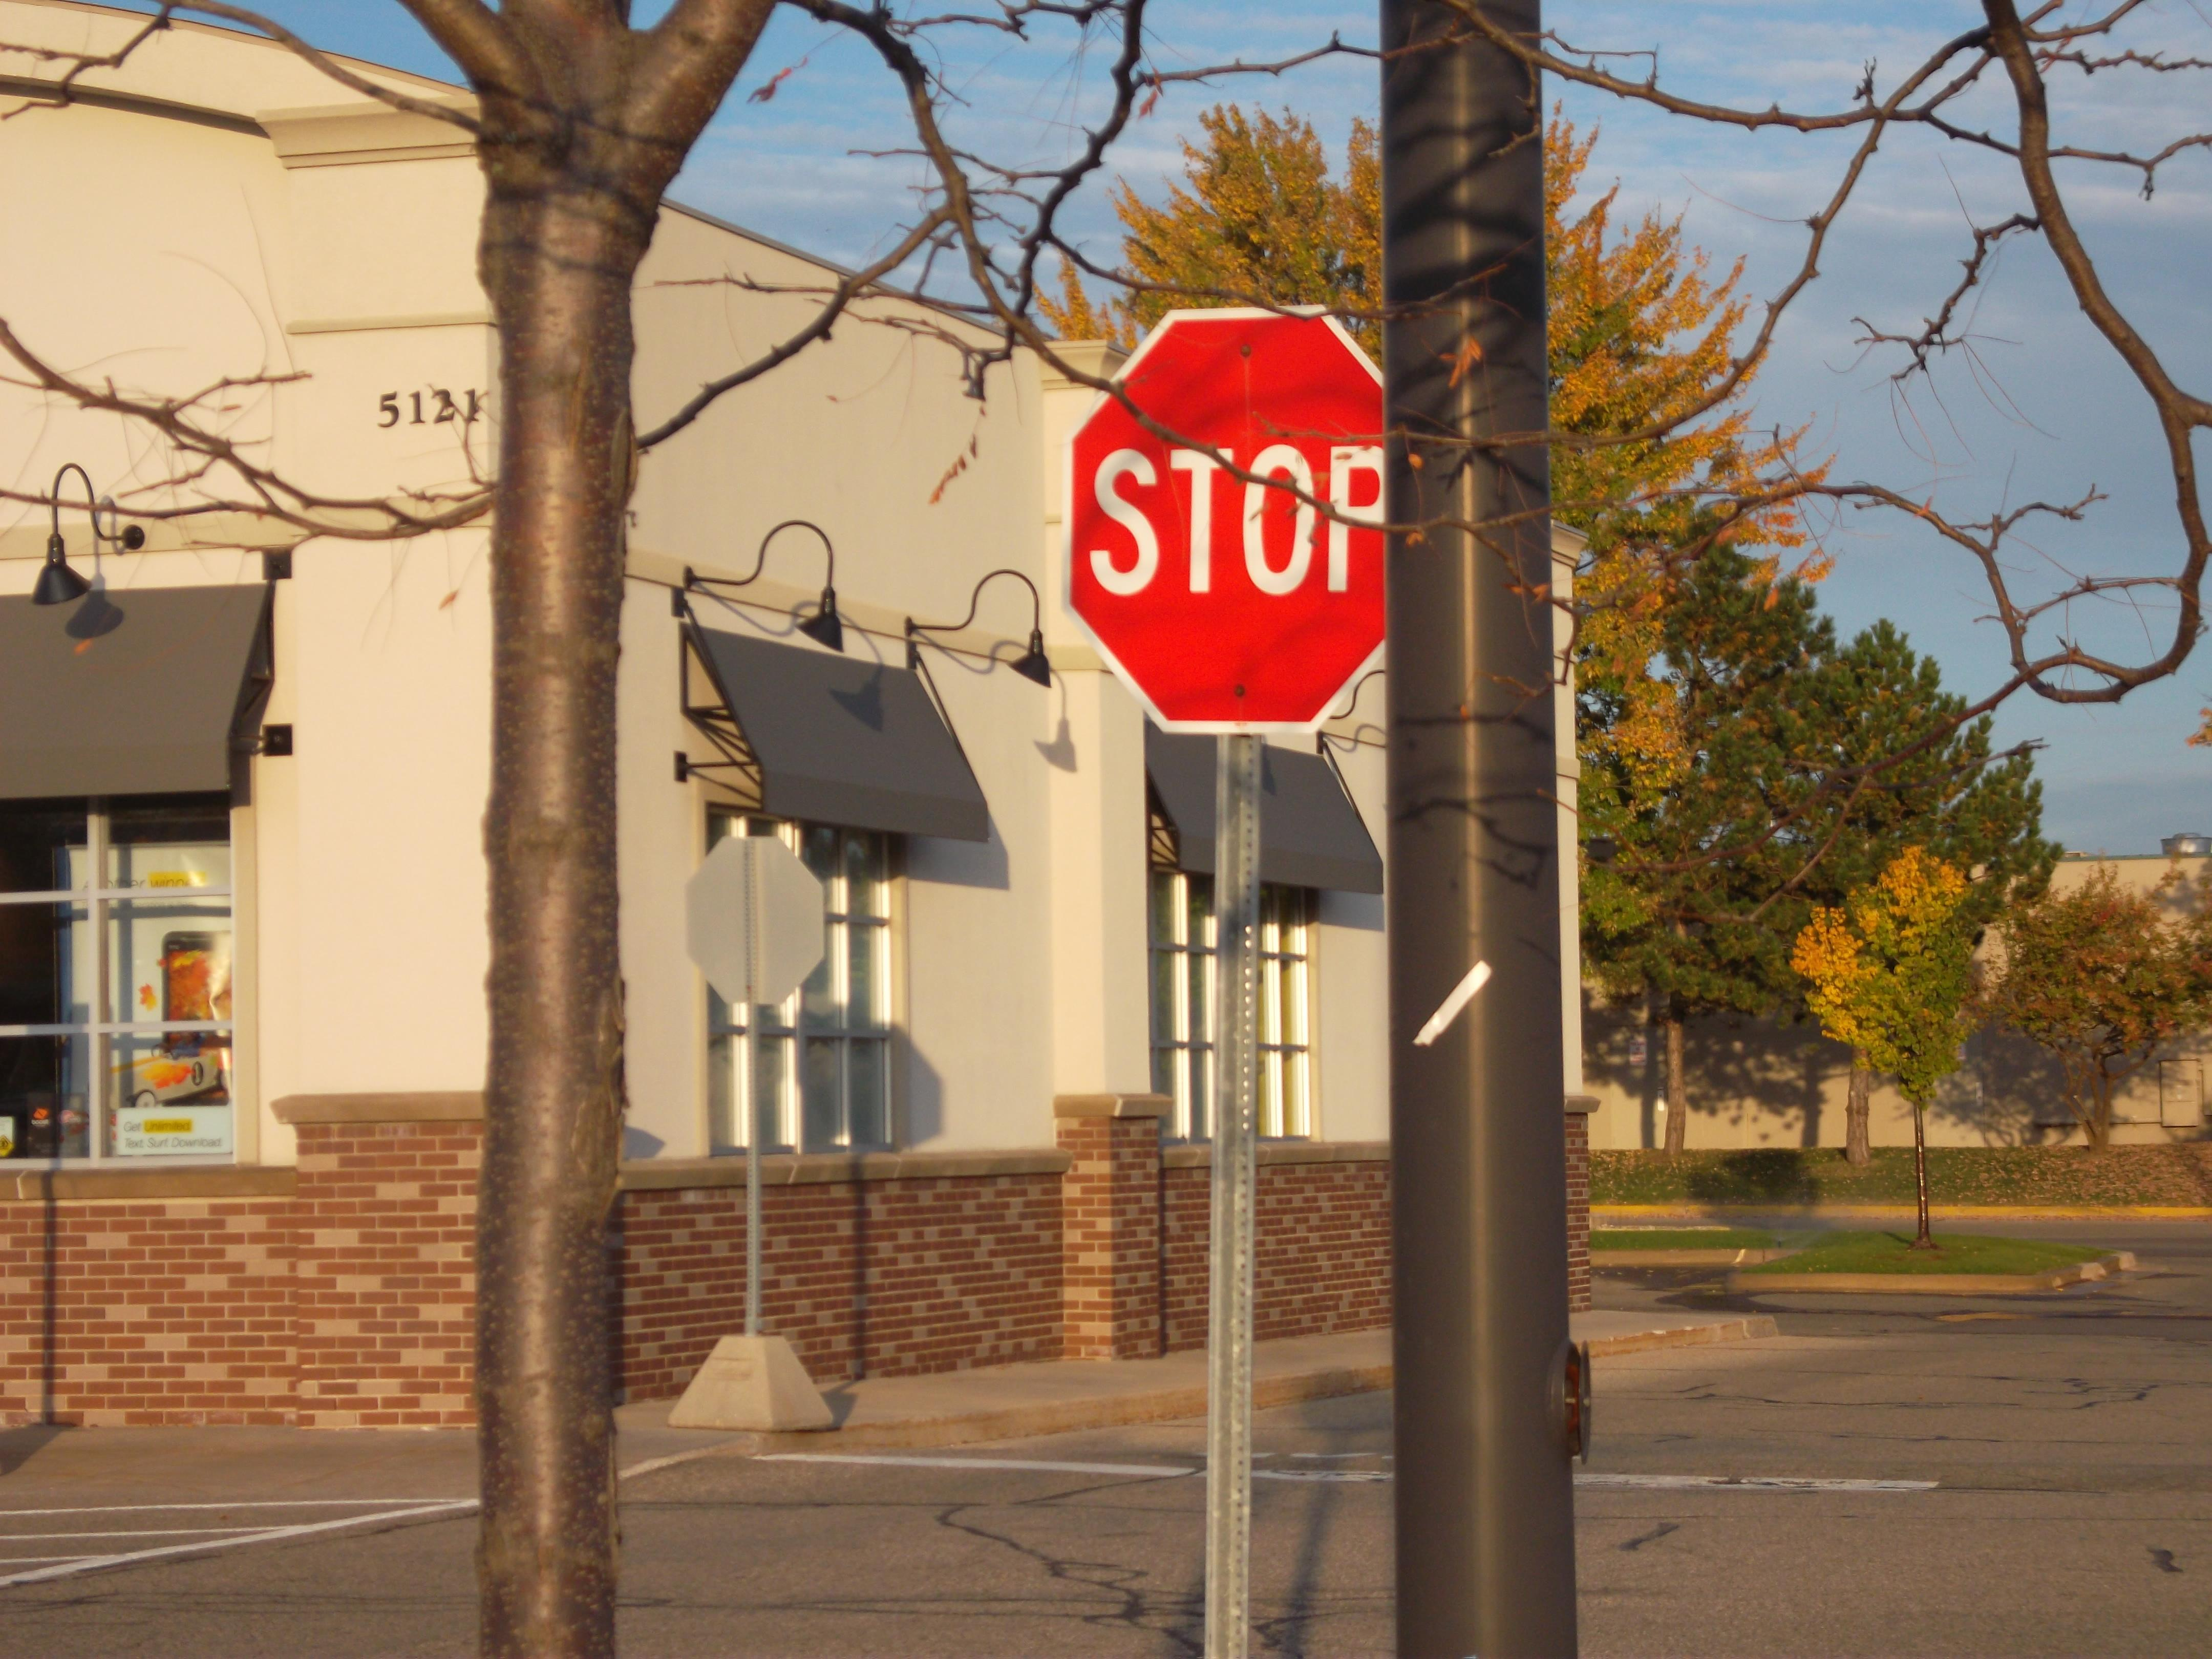stop: (1078, 305, 1400, 732)
